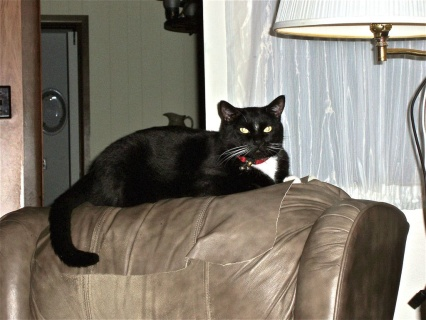Cat: (48, 95, 303, 267)
